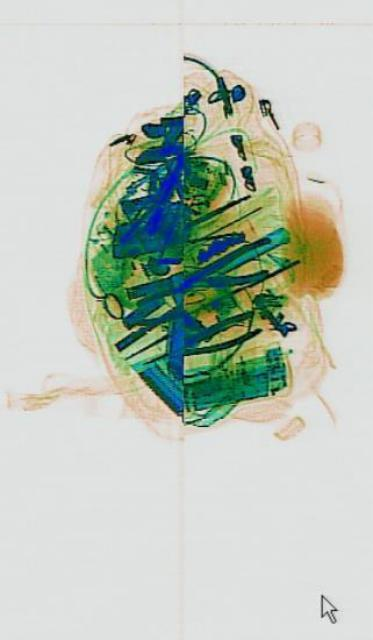Pliers: (134, 231, 273, 325), (140, 302, 261, 376)
